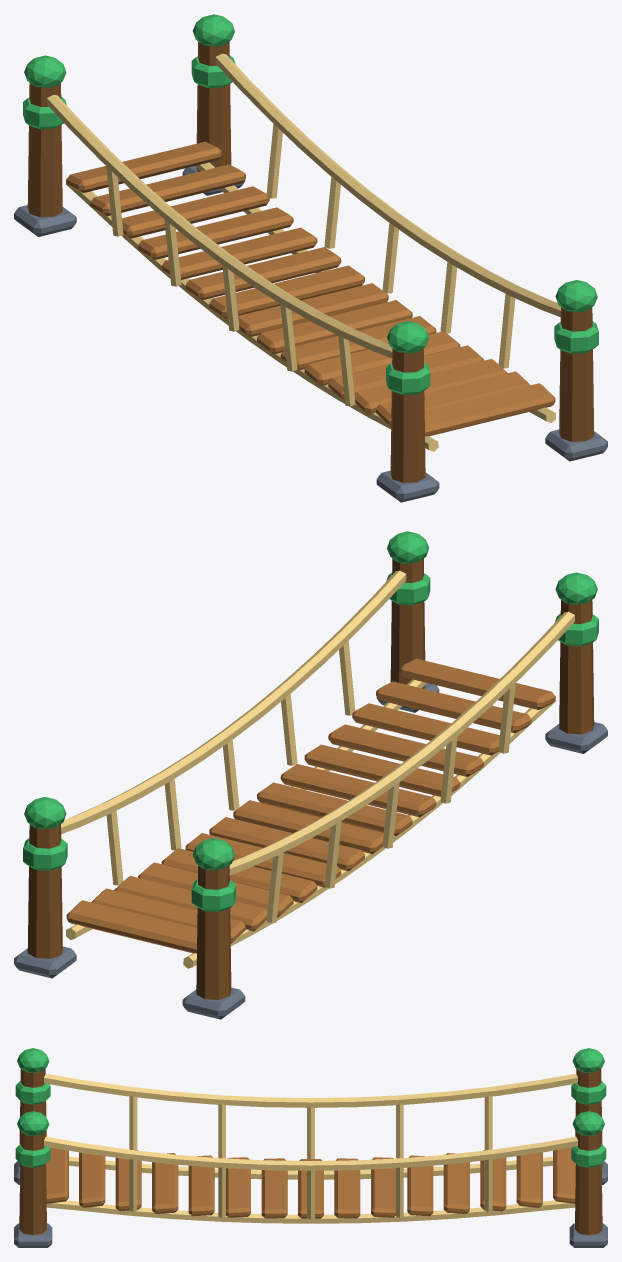
File: Prop_ninja_village_RopeBridge.glb
The picture shows the model from 3 angles, top to bottom: view 1: azimuth 30°, elevation 25°; view 2: azimuth 150°, elevation 25°; view 3: azimuth 270°, elevation 25°; orthographic projection. The views are drawn at different scales.
Visible parts, largest first — view 1: Plank_B5793F, Rope_F4D58A, Post_8A5A2B, LeafGreen_3FBF6A, StoneDark_6B7686; view 2: Plank_B5793F, Rope_F4D58A, Post_8A5A2B, LeafGreen_3FBF6A, StoneDark_6B7686; view 3: Rope_F4D58A, Plank_B5793F, Post_8A5A2B, LeafGreen_3FBF6A, StoneDark_6B7686.
Part boxes in pixels (box(x1,y1,x2,y2)): Plank_B5793F: box(66, 141, 555, 436); Rope_F4D58A: box(47, 53, 560, 451); Post_8A5A2B: box(27, 41, 594, 482); LeafGreen_3FBF6A: box(23, 14, 598, 394); StoneDark_6B7686: box(14, 166, 607, 502); Plank_B5793F: box(66, 658, 555, 953); Rope_F4D58A: box(61, 570, 574, 968); Post_8A5A2B: box(27, 558, 594, 999); LeafGreen_3FBF6A: box(23, 531, 598, 911); StoneDark_6B7686: box(14, 683, 607, 1019); Rope_F4D58A: box(44, 1073, 577, 1223); Plank_B5793F: box(46, 1147, 575, 1218); Post_8A5A2B: box(19, 1069, 602, 1235); LeafGreen_3FBF6A: box(15, 1048, 606, 1167); StoneDark_6B7686: box(14, 1161, 607, 1247).
Bounding box in the file's own units: 8.3 × 6.29 × 26.3.
